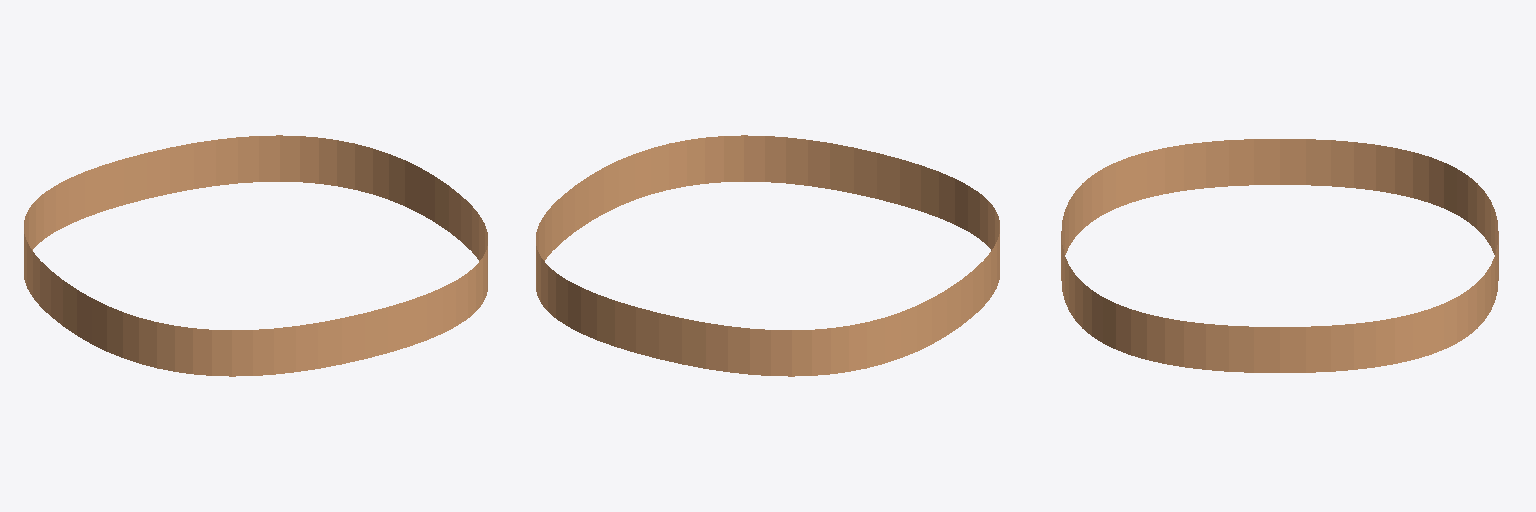
The model's file is rocks_gradient_skybox.obj.
3 renders of one model, left to right at view 1: azimuth 30°, elevation 25°; view 2: azimuth 150°, elevation 25°; view 3: azimuth 270°, elevation 25°, orthographic.
Visible parts, largest first — view 1: rocks_gradient_skybox; view 2: rocks_gradient_skybox; view 3: rocks_gradient_skybox.
Boxes of the visible parts, <box> form: rocks_gradient_skybox: <box>24,135,487,376</box>; rocks_gradient_skybox: <box>536,135,999,376</box>; rocks_gradient_skybox: <box>1061,139,1498,372</box>.
Bounding box in the file's own units: 2096 × 240 × 2056.